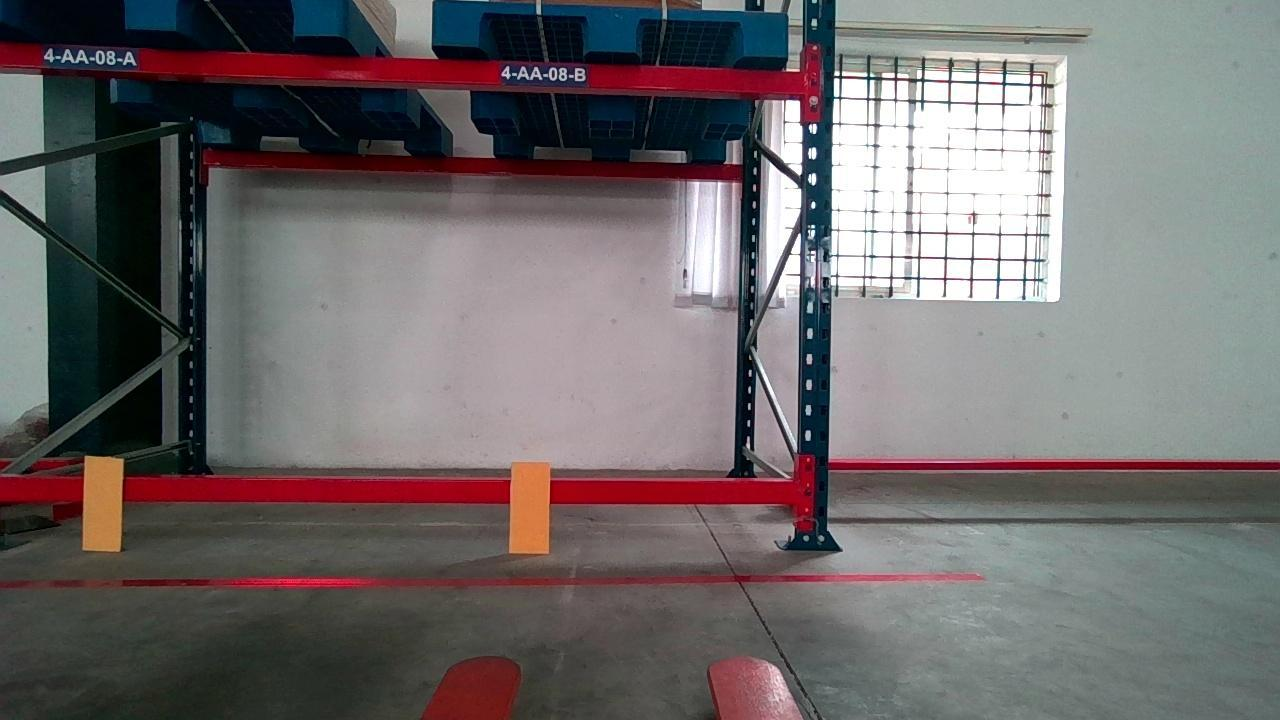h_rack: (0, 45, 802, 95), (0, 474, 797, 504)
orange_strip: (81, 455, 127, 548), (508, 461, 552, 552)
red_line: (0, 570, 985, 587)
small_pallet: (427, 0, 787, 54)
